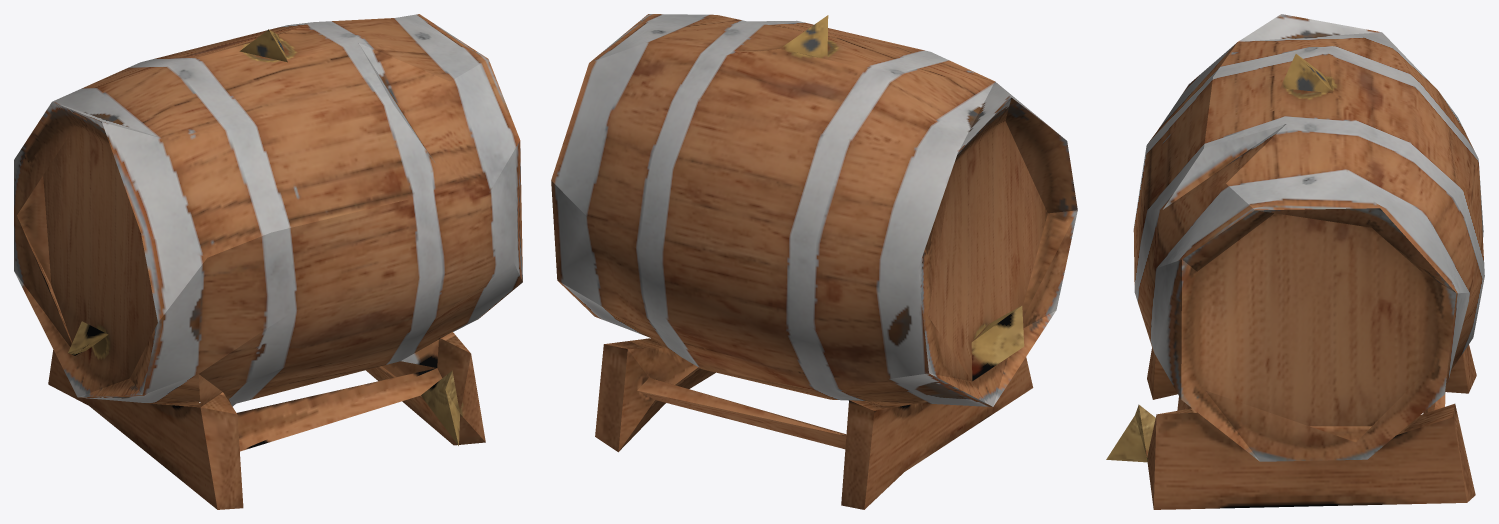
Rendered from keg_lod0.glb.
The picture shows the model from 3 angles, left to right: view 1: azimuth 30°, elevation 25°; view 2: azimuth 150°, elevation 25°; view 3: azimuth 270°, elevation 25°; orthographic projection. The views are drawn at different scales.
Visible parts, largest first — view 1: low; view 2: low; view 3: low.
Part boxes in pixels (bbox=[...]): low: bbox=[14, 14, 522, 509]; low: bbox=[551, 14, 1077, 509]; low: bbox=[1106, 14, 1484, 509].
Bounding box in the file's own units: 0.6896 × 0.6672 × 0.5823.
Materials: 1 (1 with a texture image).
